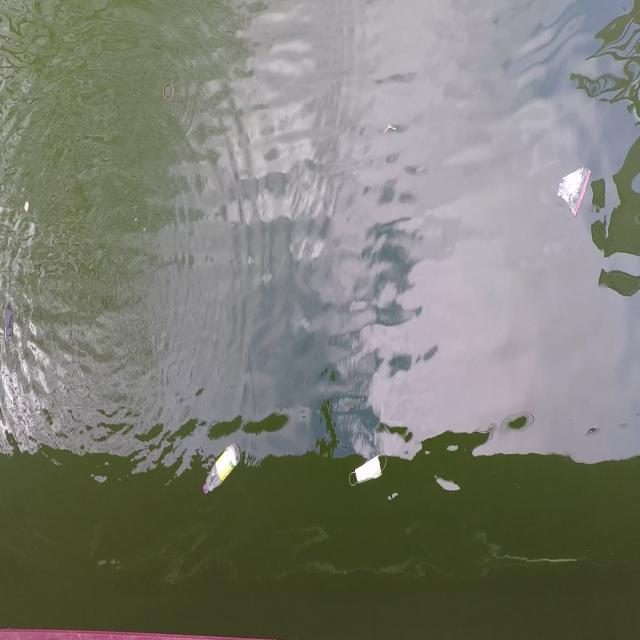Bouteille plastique: (200, 438, 244, 506)
Non plastique: (343, 448, 392, 489)
Sac plastique: (554, 153, 598, 221)
